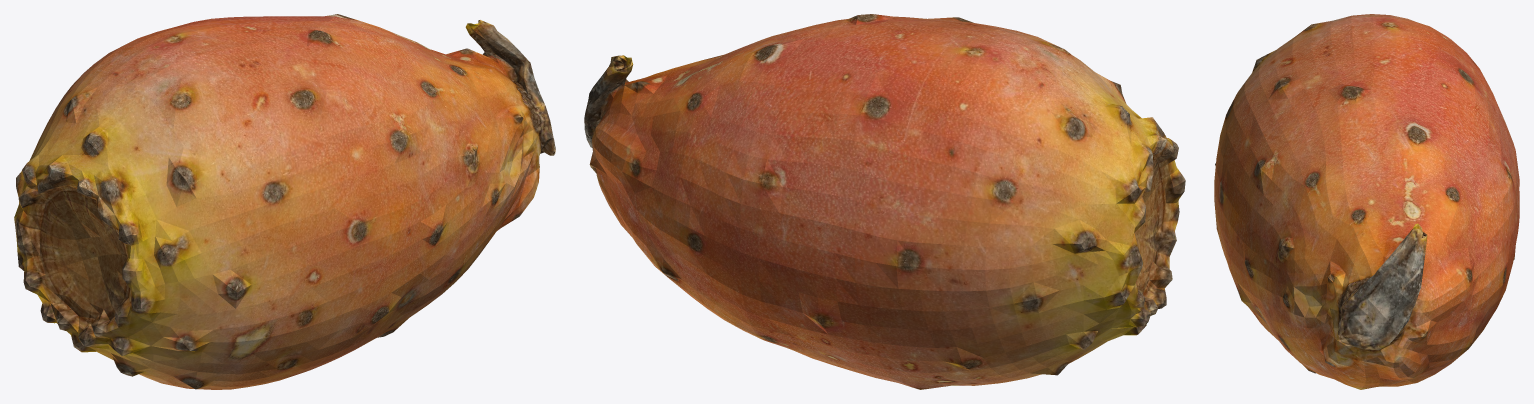
The model's file is pitaya.glb.
3 views of the same model, side by side, from view 1: azimuth 30°, elevation 25°; view 2: azimuth 150°, elevation 25°; view 3: azimuth 270°, elevation 25° (orthographic). The views are drawn at different scales.
Visible parts, largest first — view 1: pitaya; view 2: pitaya; view 3: pitaya.
Boxes of the visible parts, bbox=[...] form: pitaya: bbox=[14, 14, 555, 389]; pitaya: bbox=[584, 14, 1185, 389]; pitaya: bbox=[1214, 14, 1519, 389].
Size of the model in its own units: 8.85 by 5.33 by 5.01.
1 material, 1 textured.
